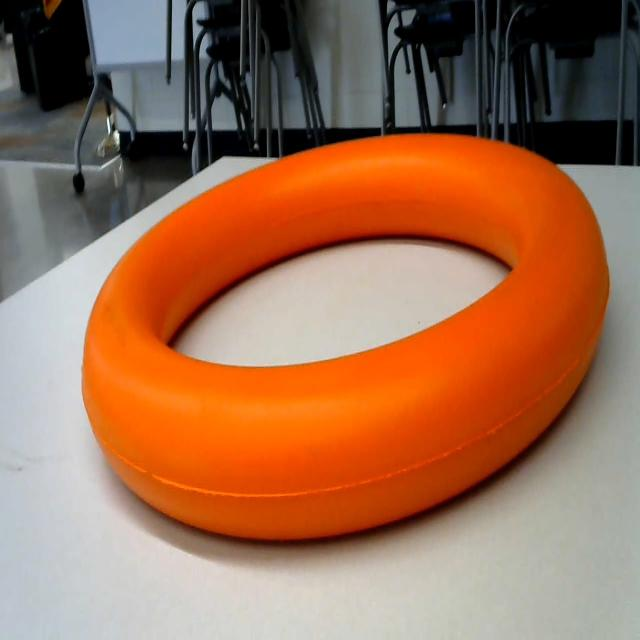note: (82, 116, 618, 578)
